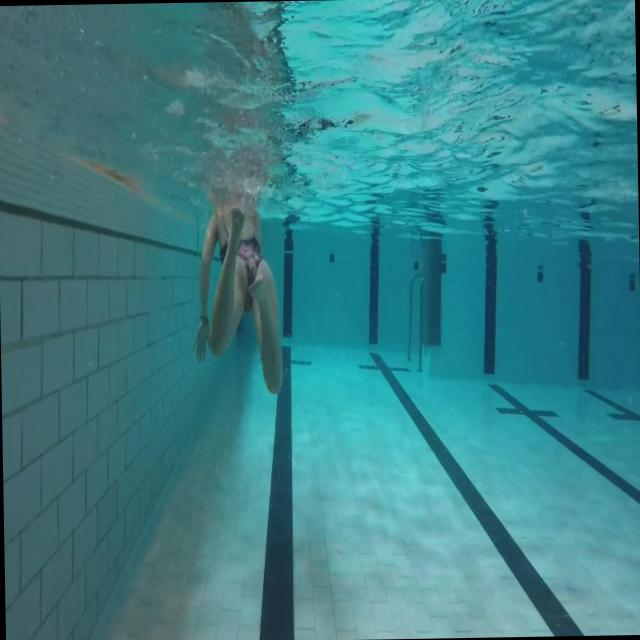human: (189, 182, 284, 396)
